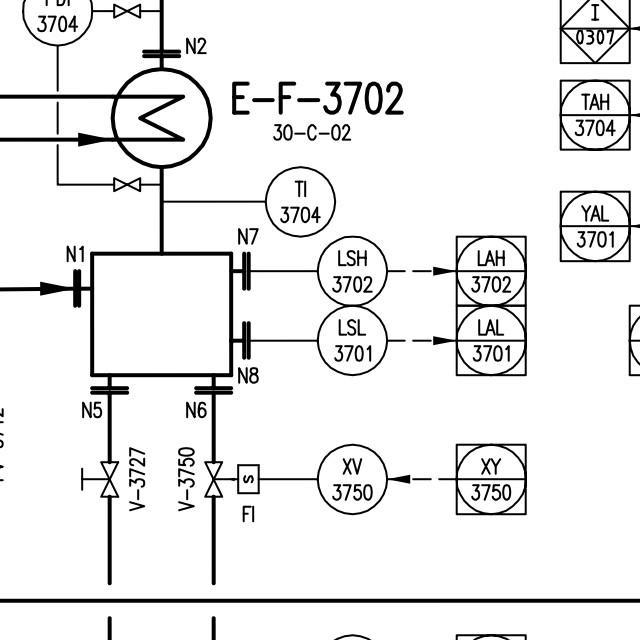GV: (107, 173, 145, 196), (109, 3, 143, 22)
HE: (107, 65, 215, 168)
HV: (76, 455, 119, 502)
SV: (202, 456, 264, 503)
